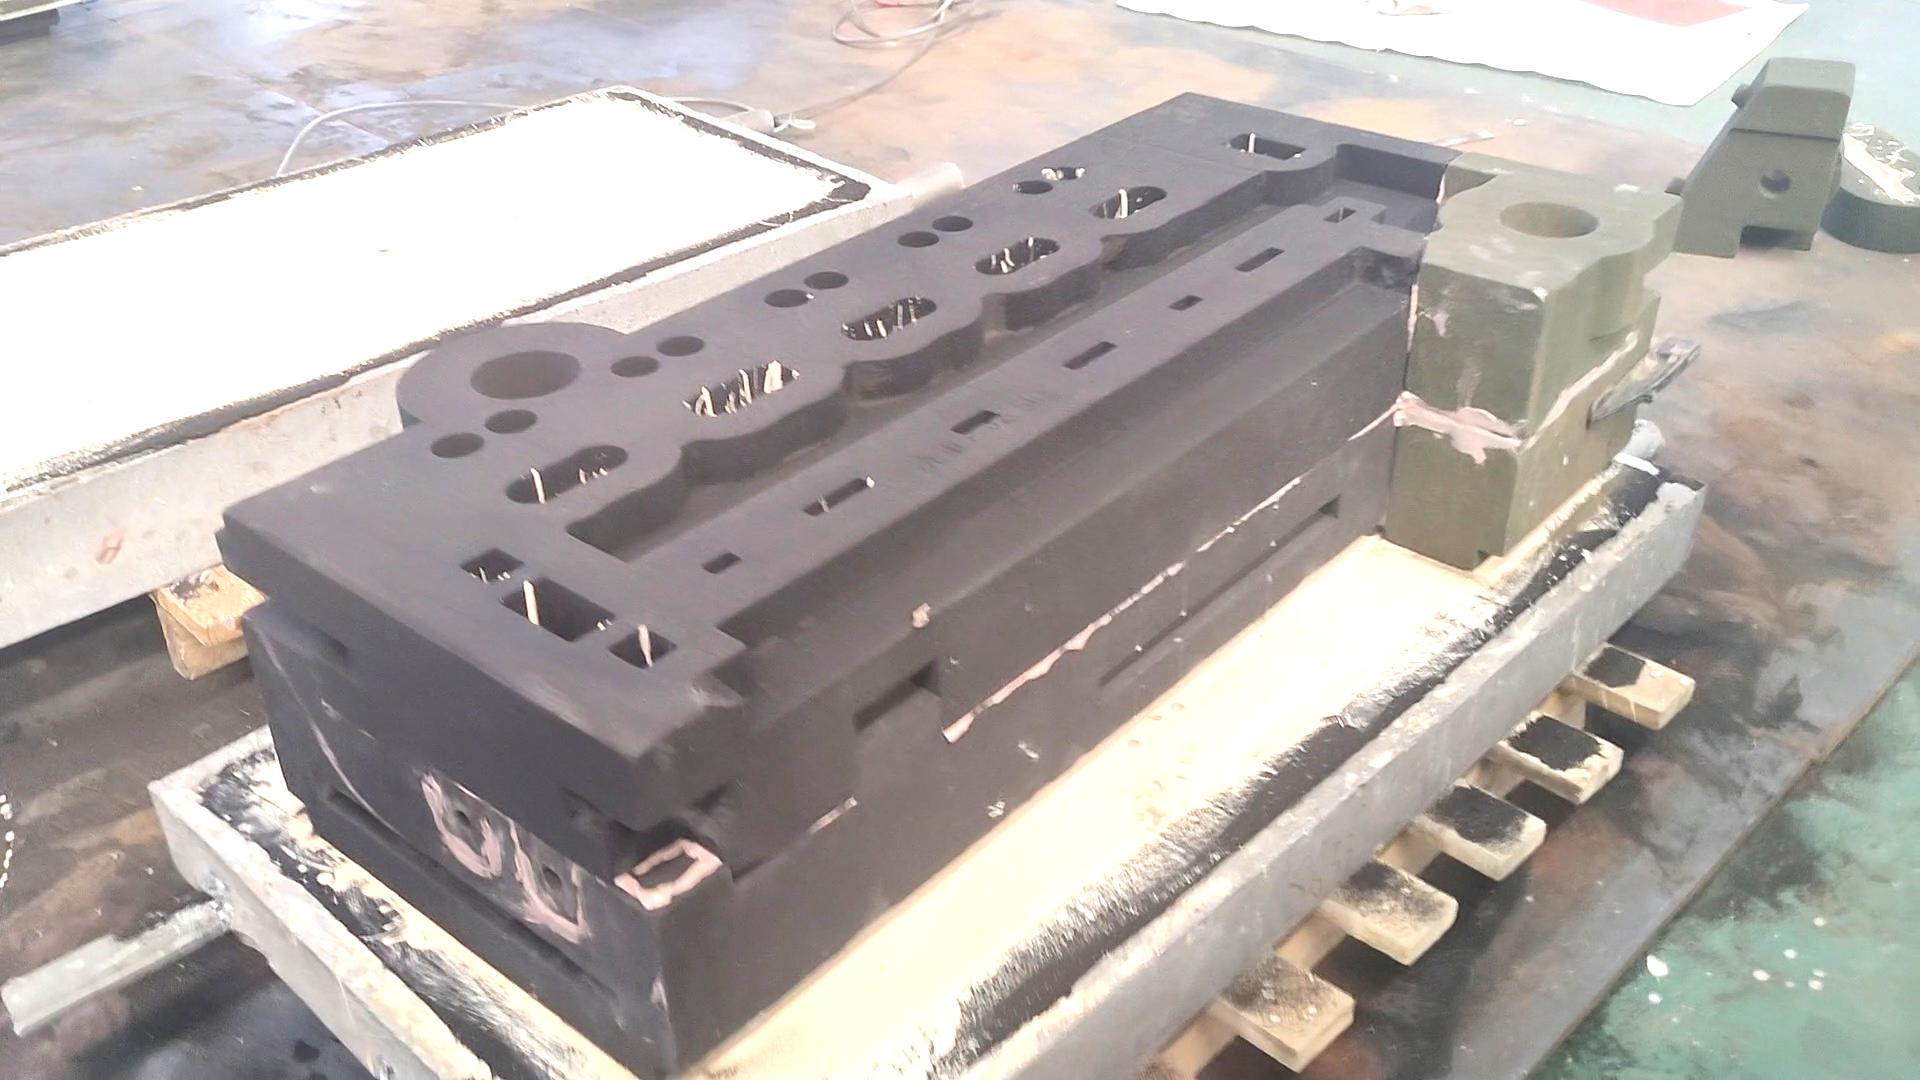pouring hole: (469, 351, 584, 400), (1499, 200, 1600, 237)
